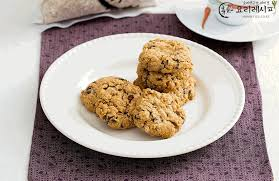오트밀쿠키: (139, 35, 193, 78)
